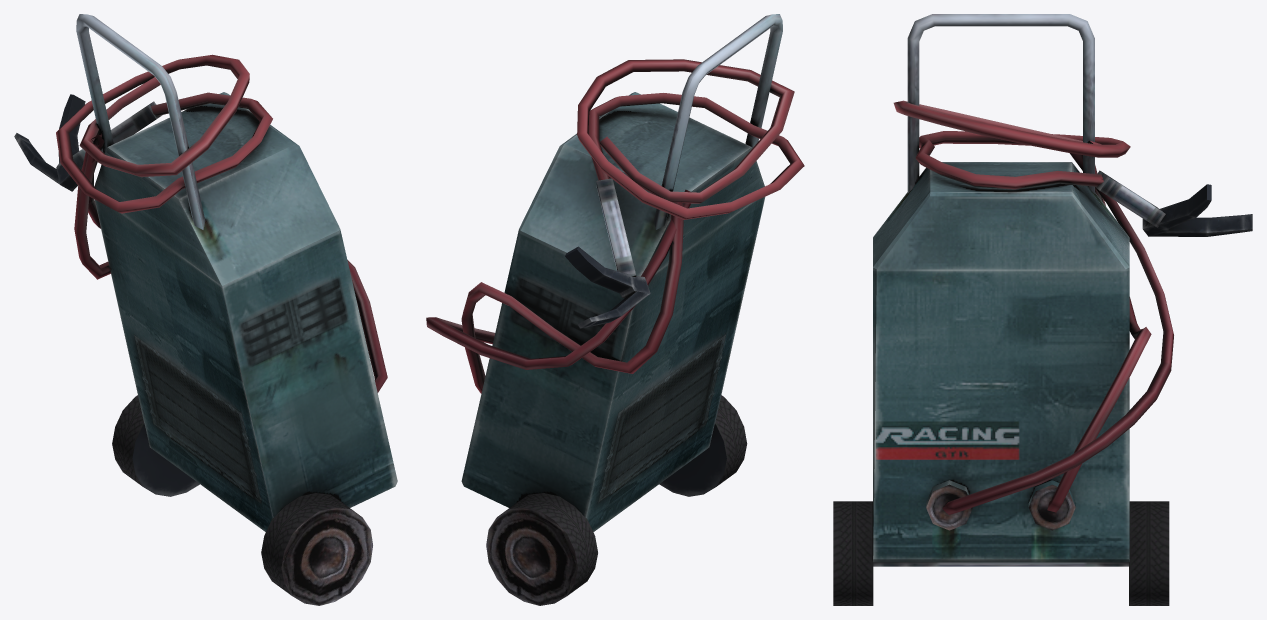
File: Utility_b.FBX
3 views of the same model, side by side, from view 1: azimuth 30°, elevation 25°; view 2: azimuth 150°, elevation 25°; view 3: azimuth 270°, elevation 25° (orthographic).
Parts seen in each view (by area): view 1: Utility_b; view 2: Utility_b; view 3: Utility_b.
Part boxes in pixels (x1,y1,x2,y2): Utility_b: [14, 14, 397, 605]; Utility_b: [426, 14, 804, 605]; Utility_b: [833, 14, 1252, 605].
Size of the model in its own units: 1.68 by 1.99 by 2.76.
Materials: 1 (1 with a texture image).
